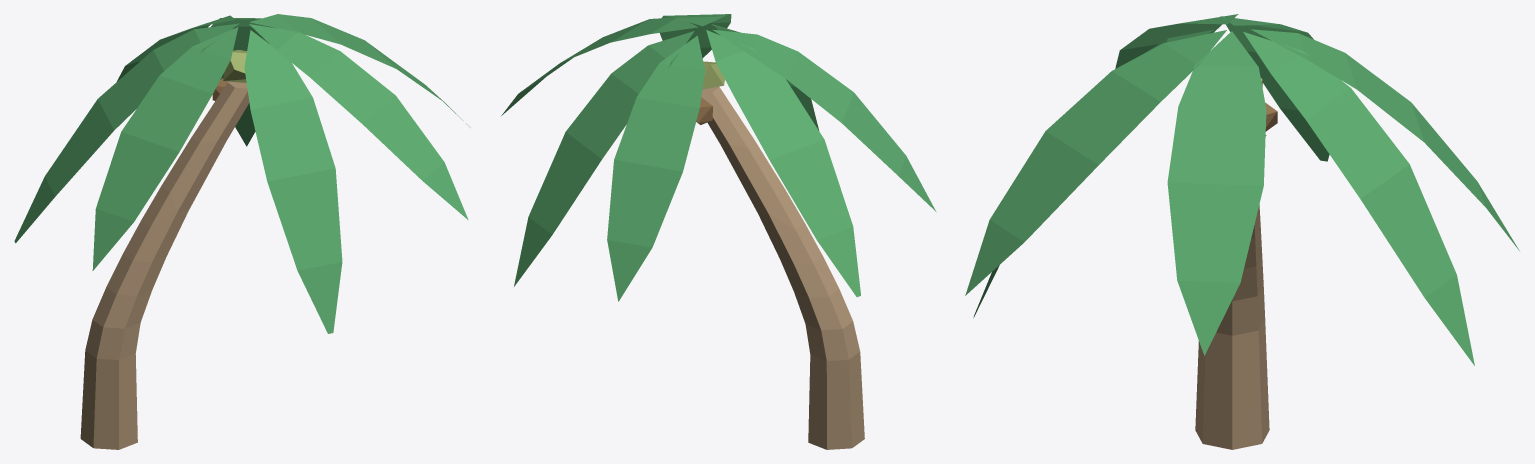
File: 50-Vegetacion_palmera_inclinada.glb
The picture shows the model from 3 angles, left to right: view 1: azimuth 30°, elevation 25°; view 2: azimuth 150°, elevation 25°; view 3: azimuth 270°, elevation 25°; orthographic projection. The views are drawn at different scales.
Visible parts, largest first — view 1: SM_Tronco_M_Hoja_PalmeraIncl, SM_Tronco_M_Tronco_PalmeraIncl, SM_Tronco_M_Corazon_PalmeraIncl; view 2: SM_Tronco_M_Hoja_PalmeraIncl, SM_Tronco_M_Tronco_PalmeraIncl, SM_Tronco_M_Corazon_PalmeraIncl; view 3: SM_Tronco_M_Hoja_PalmeraIncl, SM_Tronco_M_Tronco_PalmeraIncl.
Part boxes in pixels (<box>): SM_Tronco_M_Hoja_PalmeraIncl: <box>14,14,470,333</box>; SM_Tronco_M_Tronco_PalmeraIncl: <box>80,81,249,449</box>; SM_Tronco_M_Corazon_PalmeraIncl: <box>223,50,246,82</box>; SM_Tronco_M_Hoja_PalmeraIncl: <box>501,14,936,301</box>; SM_Tronco_M_Tronco_PalmeraIncl: <box>701,86,864,449</box>; SM_Tronco_M_Corazon_PalmeraIncl: <box>702,61,724,89</box>; SM_Tronco_M_Hoja_PalmeraIncl: <box>965,14,1519,365</box>; SM_Tronco_M_Tronco_PalmeraIncl: <box>1195,204,1269,449</box>.
Size of the model in its own units: 4.78 by 4.26 by 4.38.
